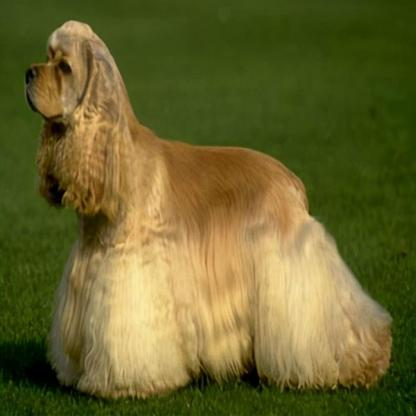Labarador Retriever: (24, 16, 392, 392)
